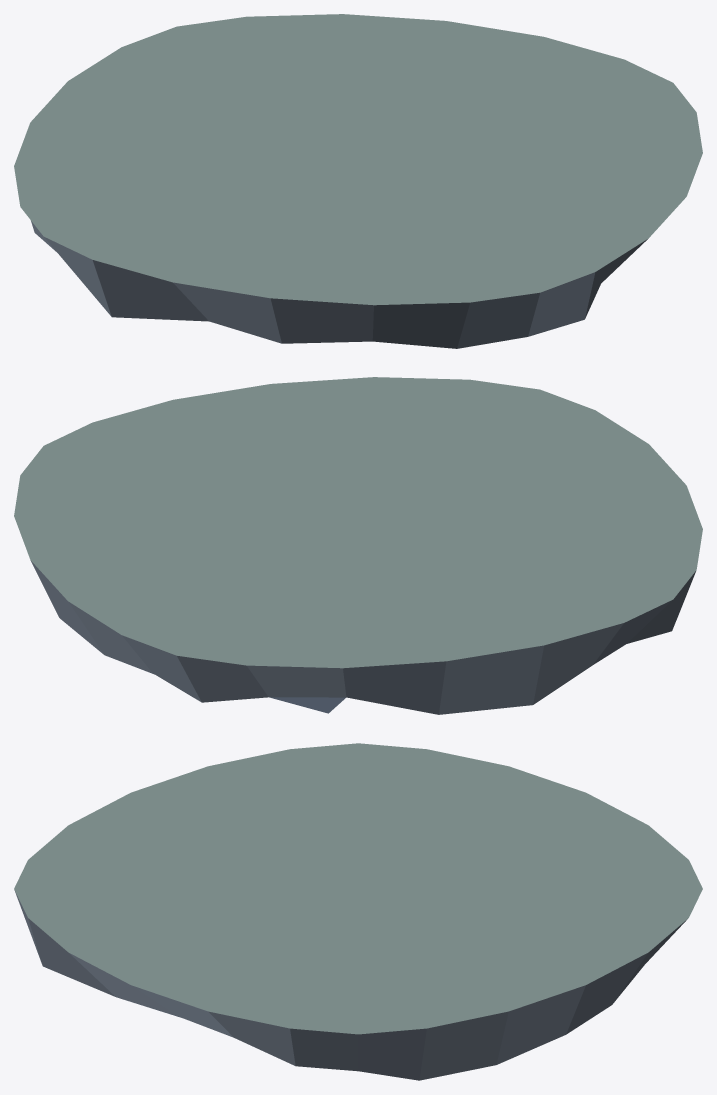
The model's file is Island_Frag_09.glb.
3 views of the same model, one above another, from view 1: azimuth 30°, elevation 25°; view 2: azimuth 150°, elevation 25°; view 3: azimuth 270°, elevation 25° (orthographic). The views are drawn at different scales.
Visible parts, largest first — view 1: Island_Frag_09; view 2: Island_Frag_09; view 3: Island_Frag_09.
Boxes of the visible parts, x1,y1,x2,y2 form: Island_Frag_09: (14,14,702,348); Island_Frag_09: (14,377,702,714); Island_Frag_09: (14,743,702,1080).
Bounding box in the file's own units: 92 × 16.73 × 92.
